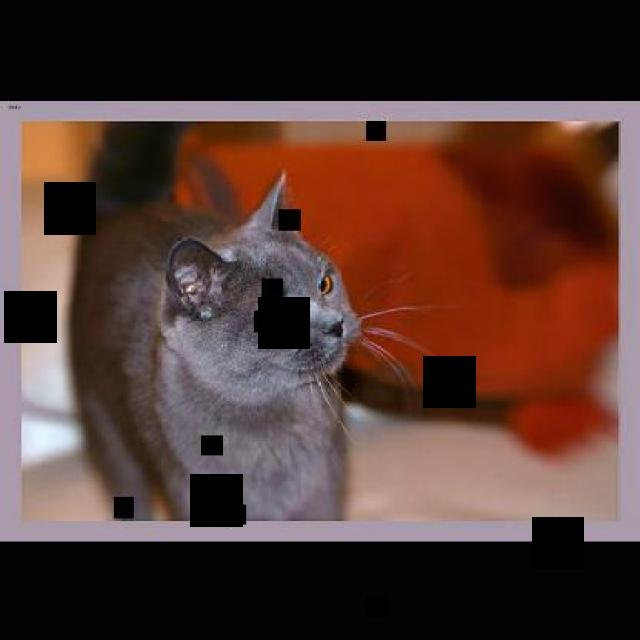unauthorized: (65, 165, 443, 520)
